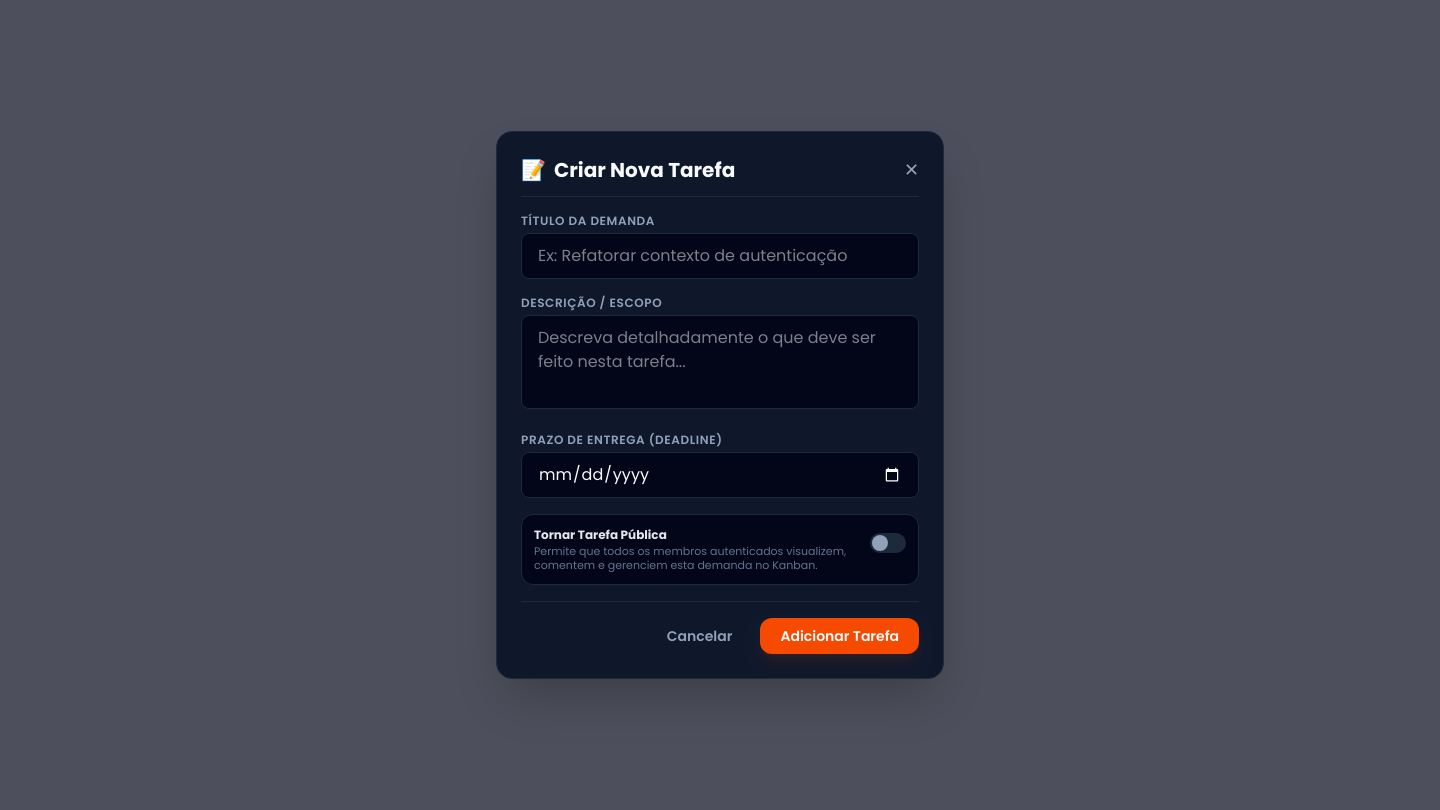
Test: TaskForm › should show validation errors on invalid submit
The width and height of the screenshot is (1440, 810).
Click the button "Adicionar Tarefa" at {"x": 840, "y": 636}, box [760, 618, 919, 654]
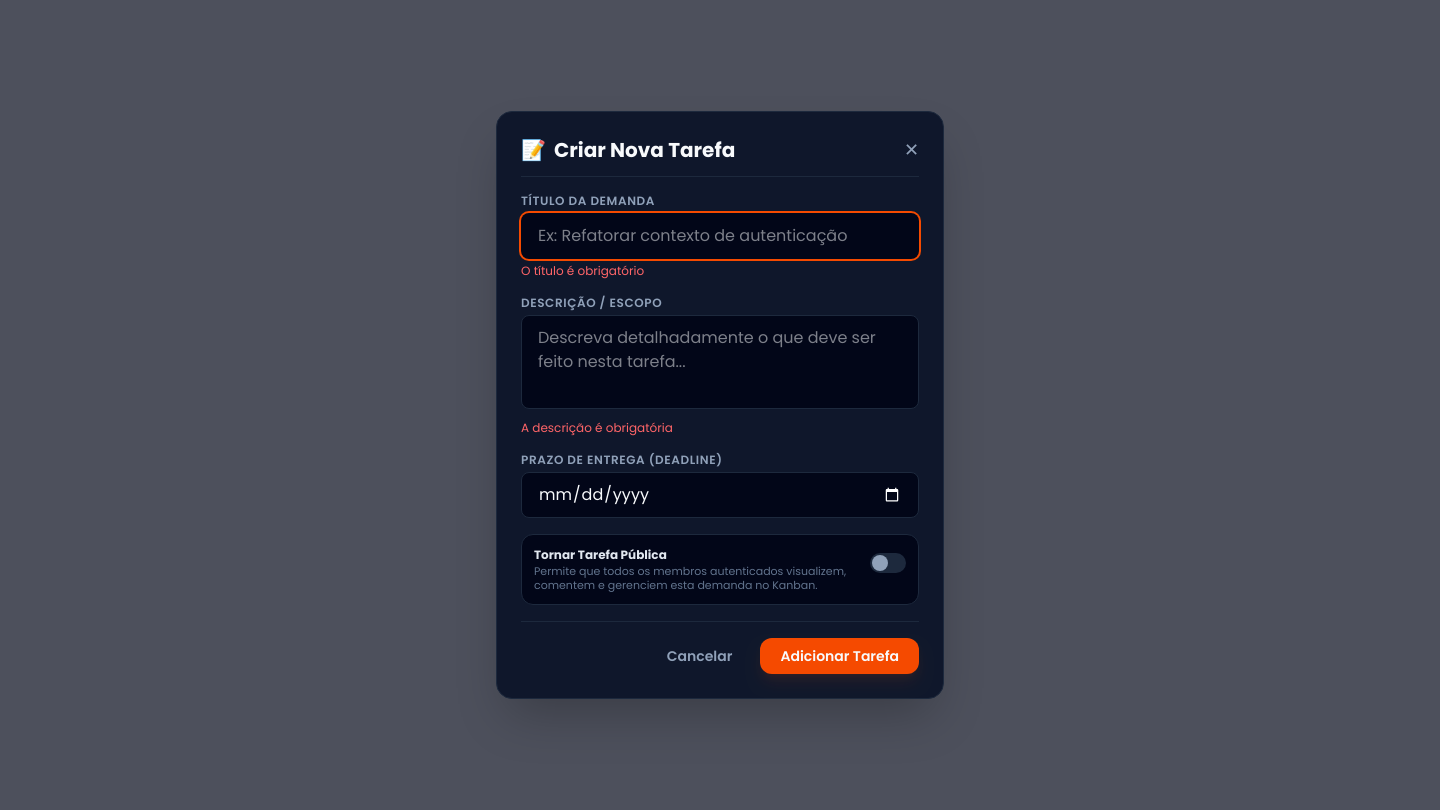
Expected: the text "O título é obrigatório" is shown, [521, 262, 644, 279]
Expected: the text "A descrição é obrigatória" is shown, [521, 419, 673, 436]
